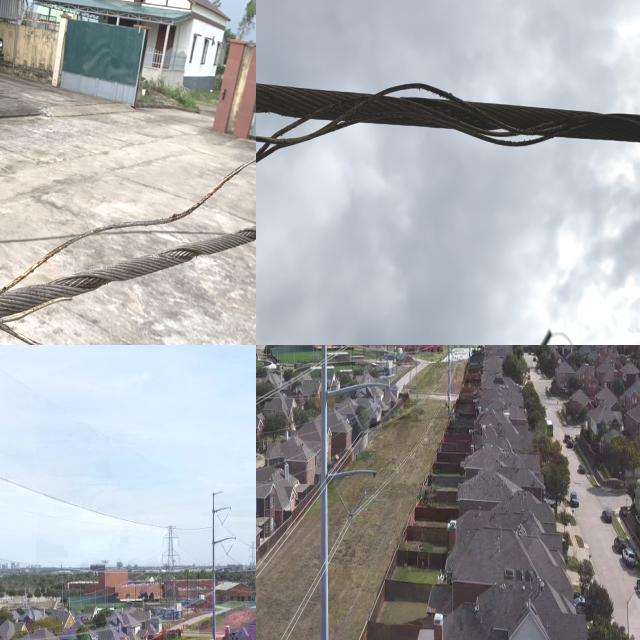杆塔: (152, 515, 184, 611)
正常绝缘子: (348, 486, 370, 522), (333, 482, 353, 521), (345, 396, 366, 433), (361, 403, 381, 436)
电缆破损: (0, 135, 256, 345), (256, 63, 566, 190)
